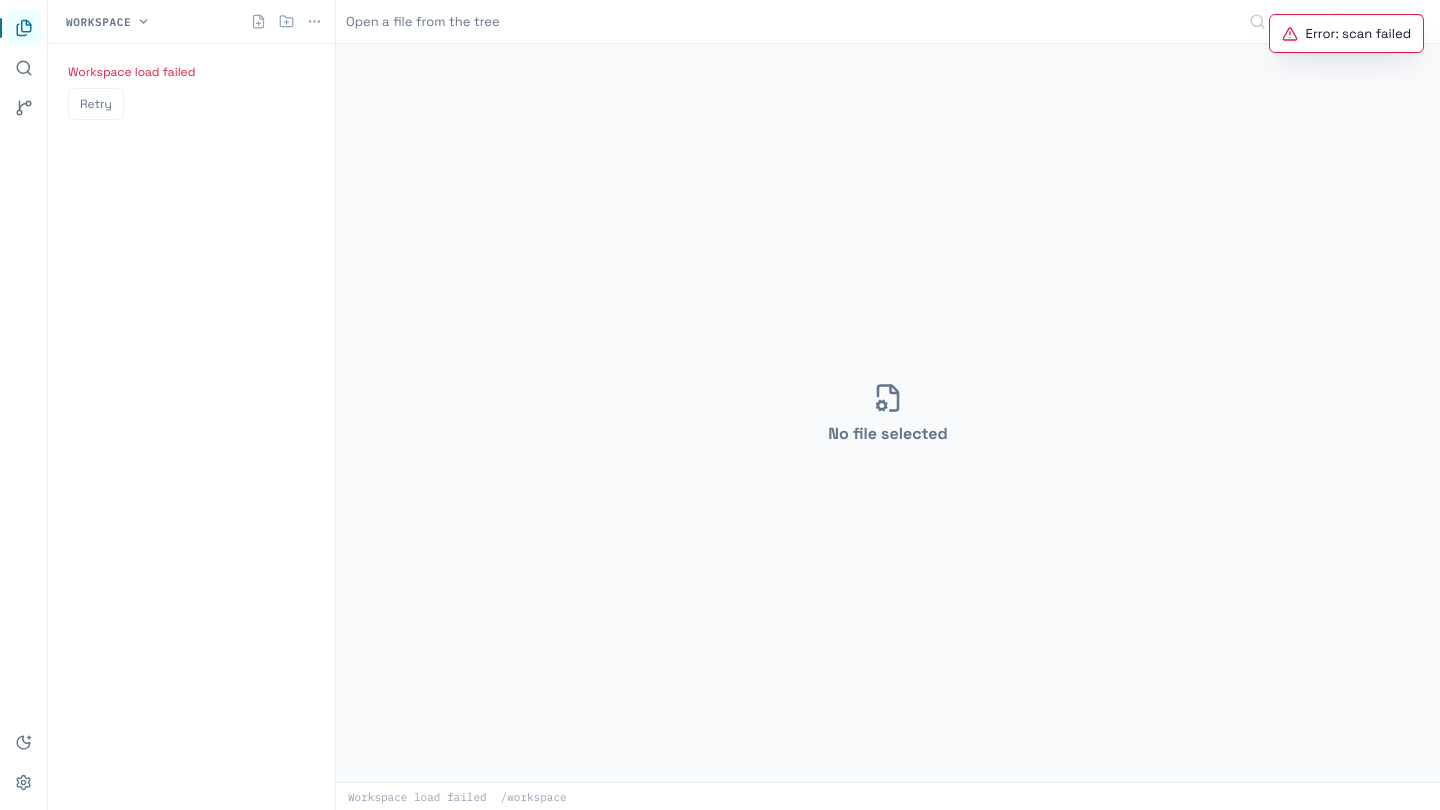
Test: App shell interactions › surfaces workspace load failures and retries the scan
This screenshot has width=1440, height=810.
expect the 1st text "Workspace load failed" is shown: met, box [68,64,195,80]
expect the text "Error: scan failed" is shown: met, box [1306,25,1411,42]
Click the button "Retry": [96, 104] box [68,88,124,120]
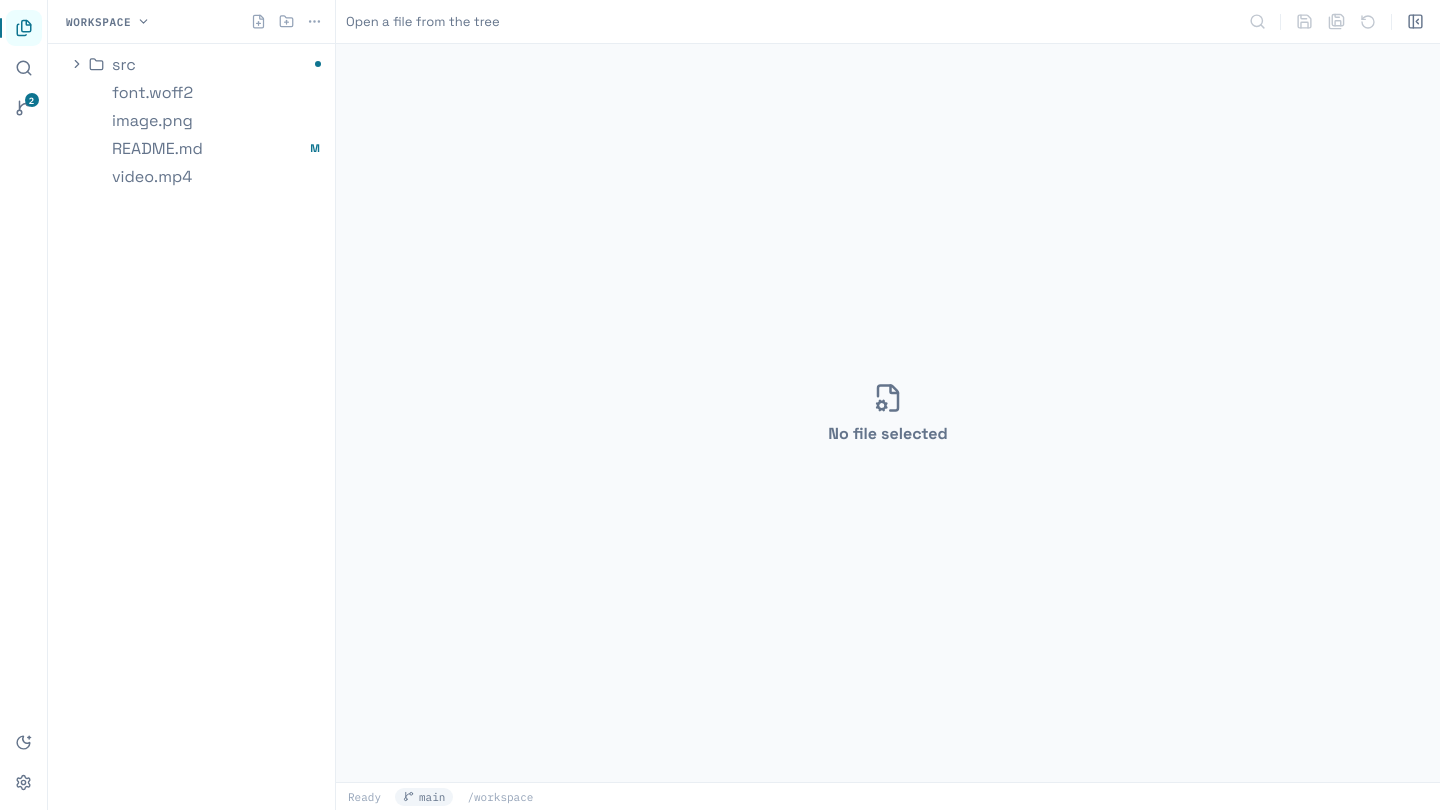
expect the list item "README.md" is shown: met, box [64,134,327,162]
expect the text "Ready" is shown: met, box [348,790,381,804]
